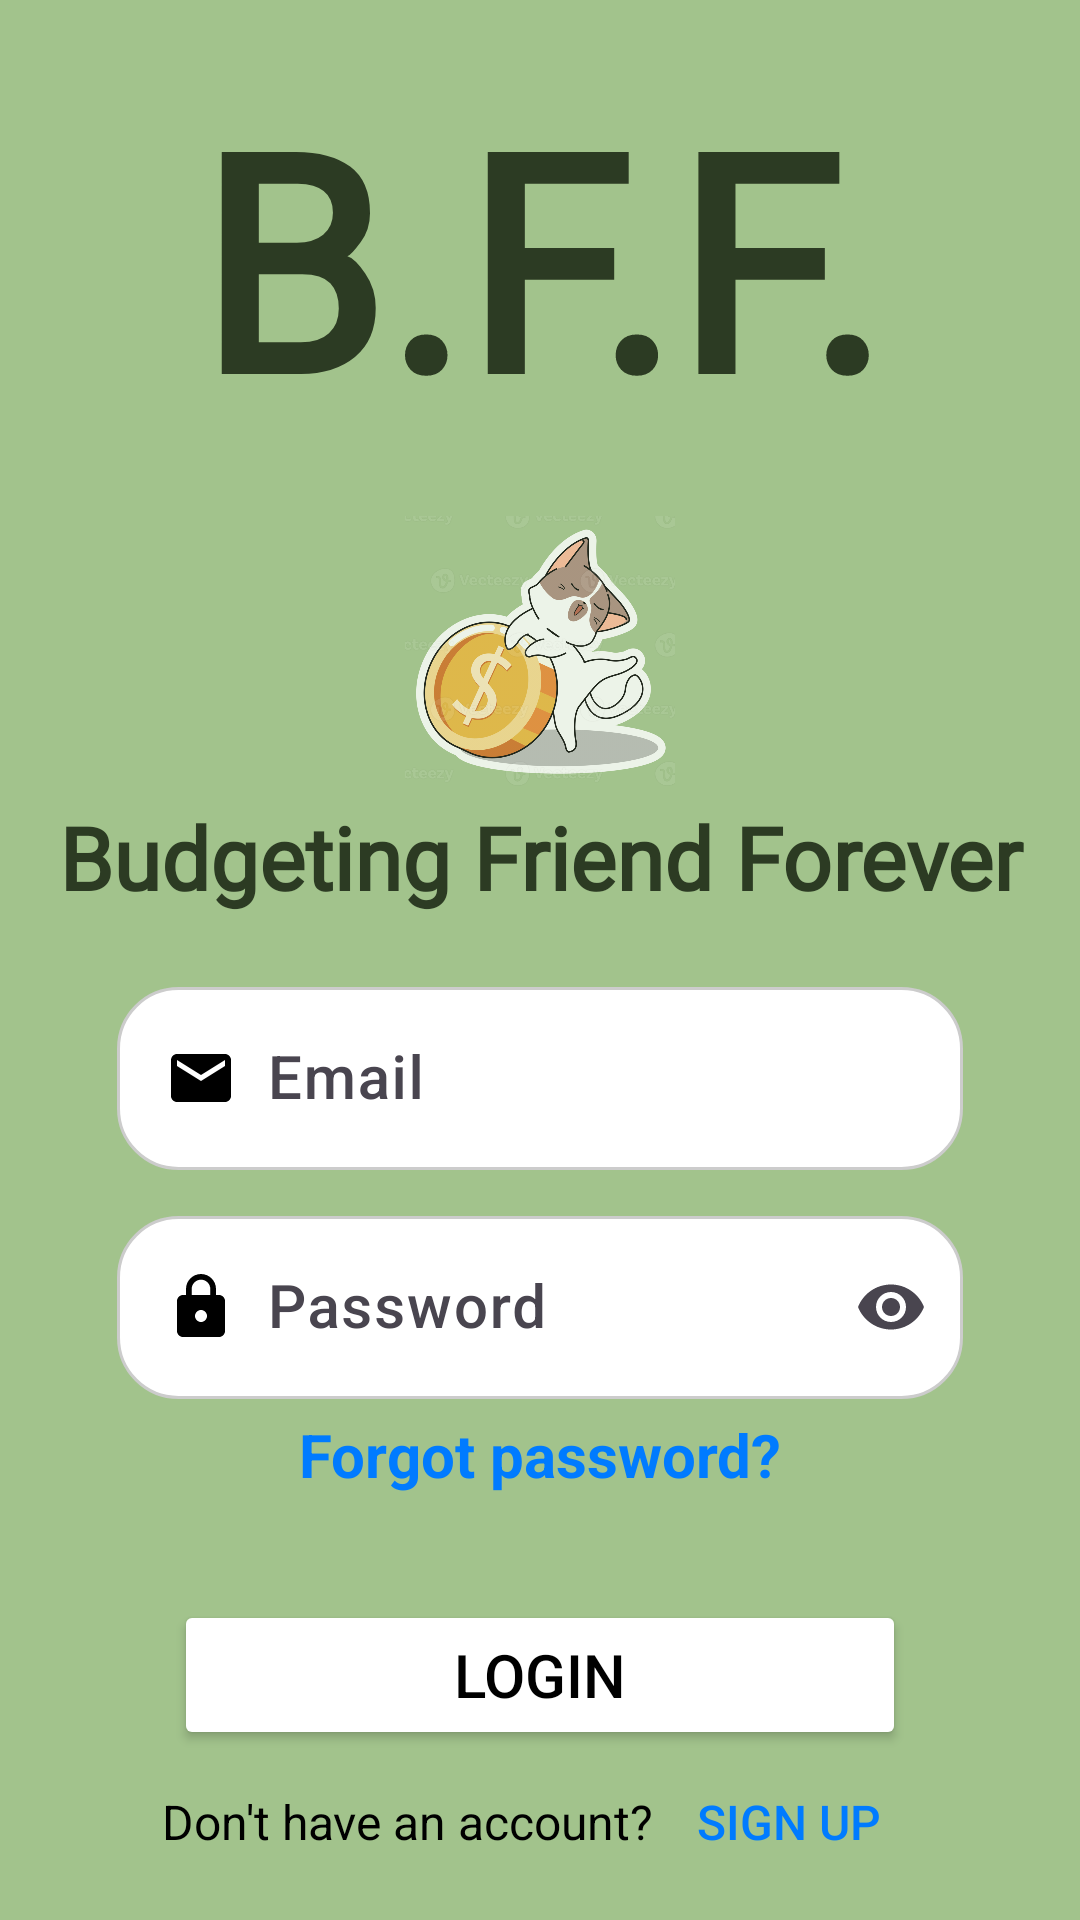

Locate icon controls on the screen. Image size 1080w x 1920h, boxes as box(x1, y1, x2, y2).
Cat: box(416, 529, 666, 774)
